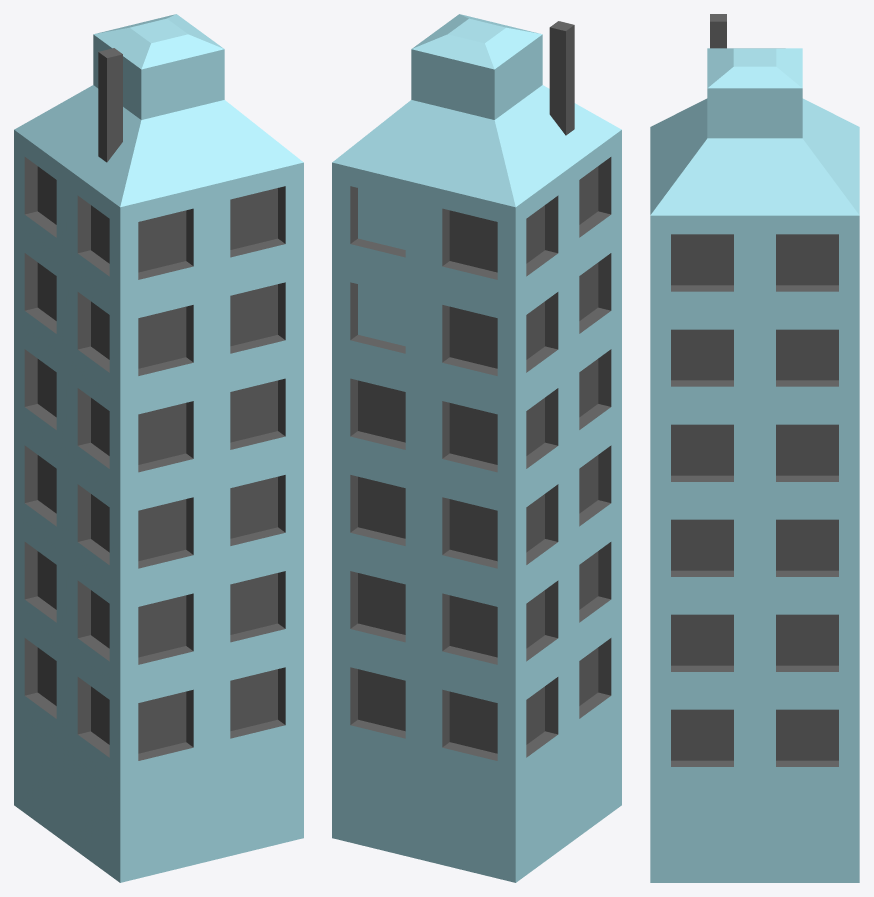
File: Skyscraper.fbx
3 views of the same model, side by side, from view 1: azimuth 30°, elevation 25°; view 2: azimuth 150°, elevation 25°; view 3: azimuth 270°, elevation 25° (orthographic).
Visible parts, largest first — view 1: Cube; view 2: Cube; view 3: Cube.
Boxes of the visible parts, left/top/right/bottom form: Cube: left=14, top=14, right=303, bottom=882; Cube: left=332, top=14, right=621, bottom=882; Cube: left=650, top=14, right=859, bottom=882.
Bounding box in the file's own units: 2 × 8.31 × 2.
